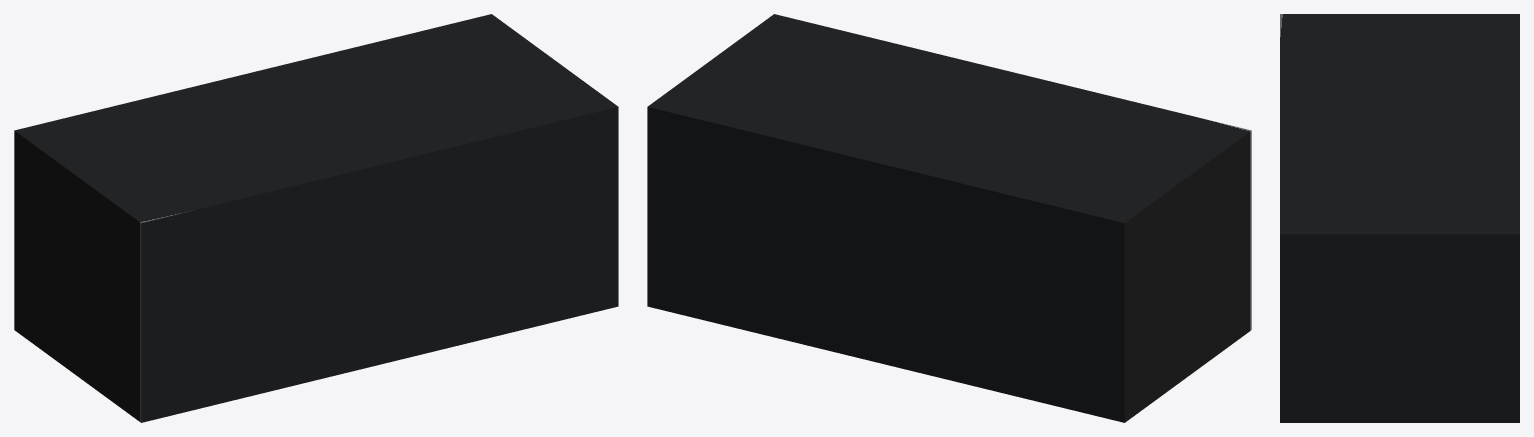
The model's file is roda.fbx.
The picture shows the model from 3 angles, left to right: view 1: azimuth 30°, elevation 25°; view 2: azimuth 150°, elevation 25°; view 3: azimuth 270°, elevation 25°; orthographic projection. The views are drawn at different scales.
Parts seen in each view (by area): view 1: rodas.001; view 2: rodas.001; view 3: rodas.001.
Part boxes in pixels (<box>): rodas.001: <box>14,14,618,422</box>; rodas.001: <box>647,14,1251,422</box>; rodas.001: <box>1280,14,1519,422</box>.
Size of the model in its own units: 29.89 by 11.95 by 13.75.
